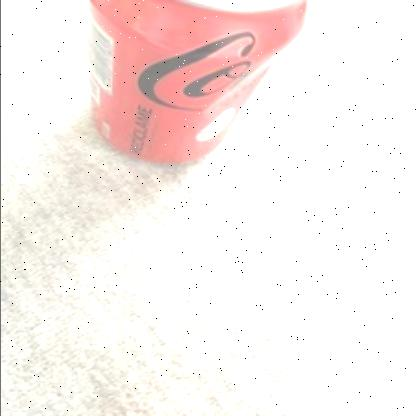Can: (86, 0, 308, 164)
